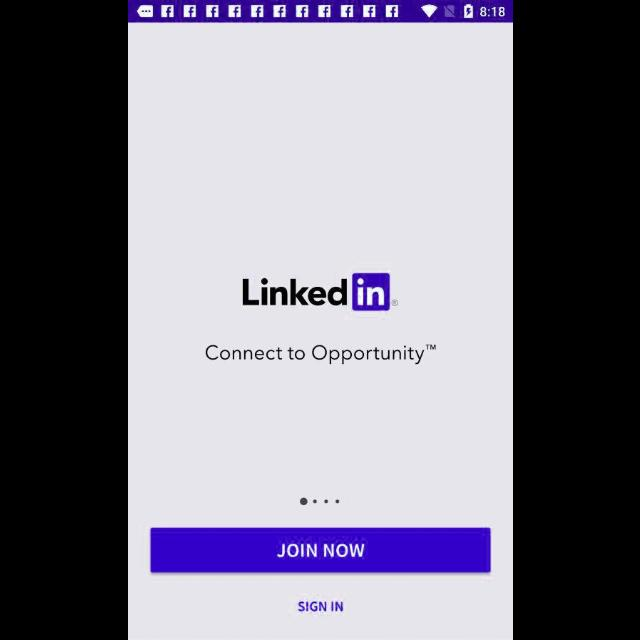image: (242, 272, 398, 312)
pageindicator: (298, 498, 339, 507)
text: (204, 344, 436, 366), (298, 600, 342, 612)
textbutton: (150, 528, 490, 572)
uppertaskbar: (128, 1, 512, 23)
